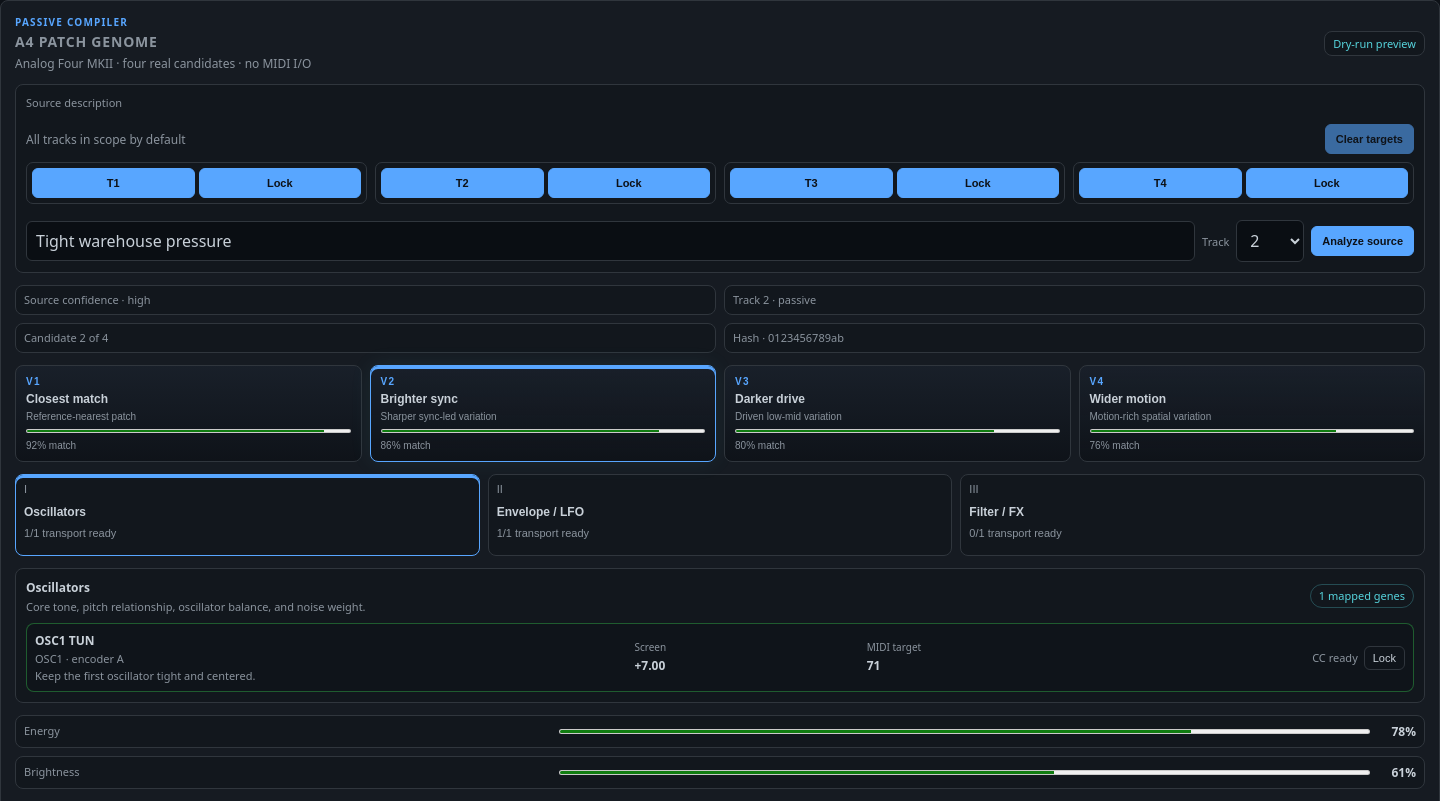
Test case: PatchGenomePanel › multi-selects A4 mutation targets and shows inactive and locked tracks
Click the button named "Target track 2".
click(462, 183)  # box [381, 168, 544, 198]
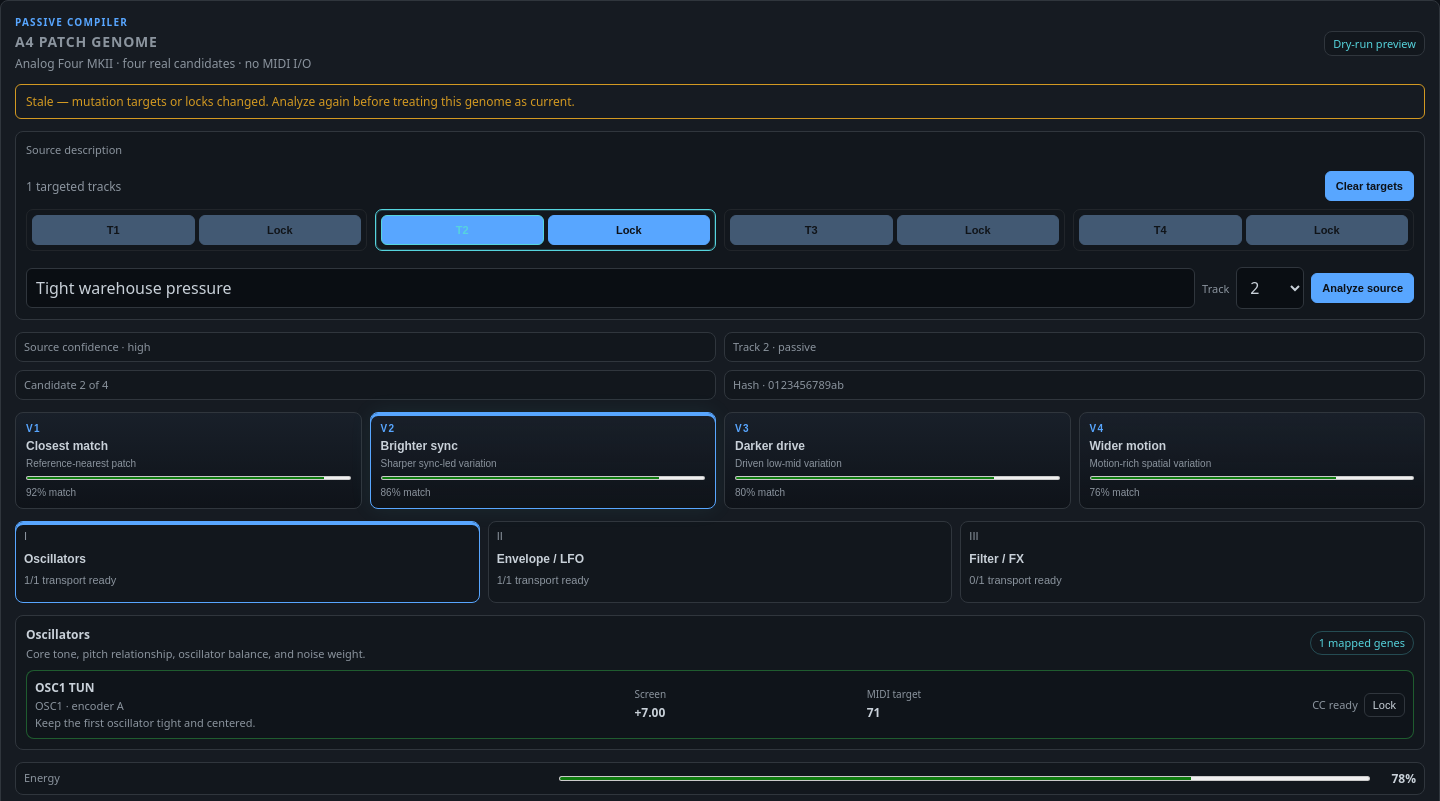
Check: the element with test id "a4-target-control-1" has class "inactive", box [26, 209, 367, 251]
Check: the element with test id "a4-target-control-2" has class "targeted", box [375, 209, 716, 251]
Click the button with aria-label "Lock track 2".
click(629, 230)  # box [548, 215, 710, 245]
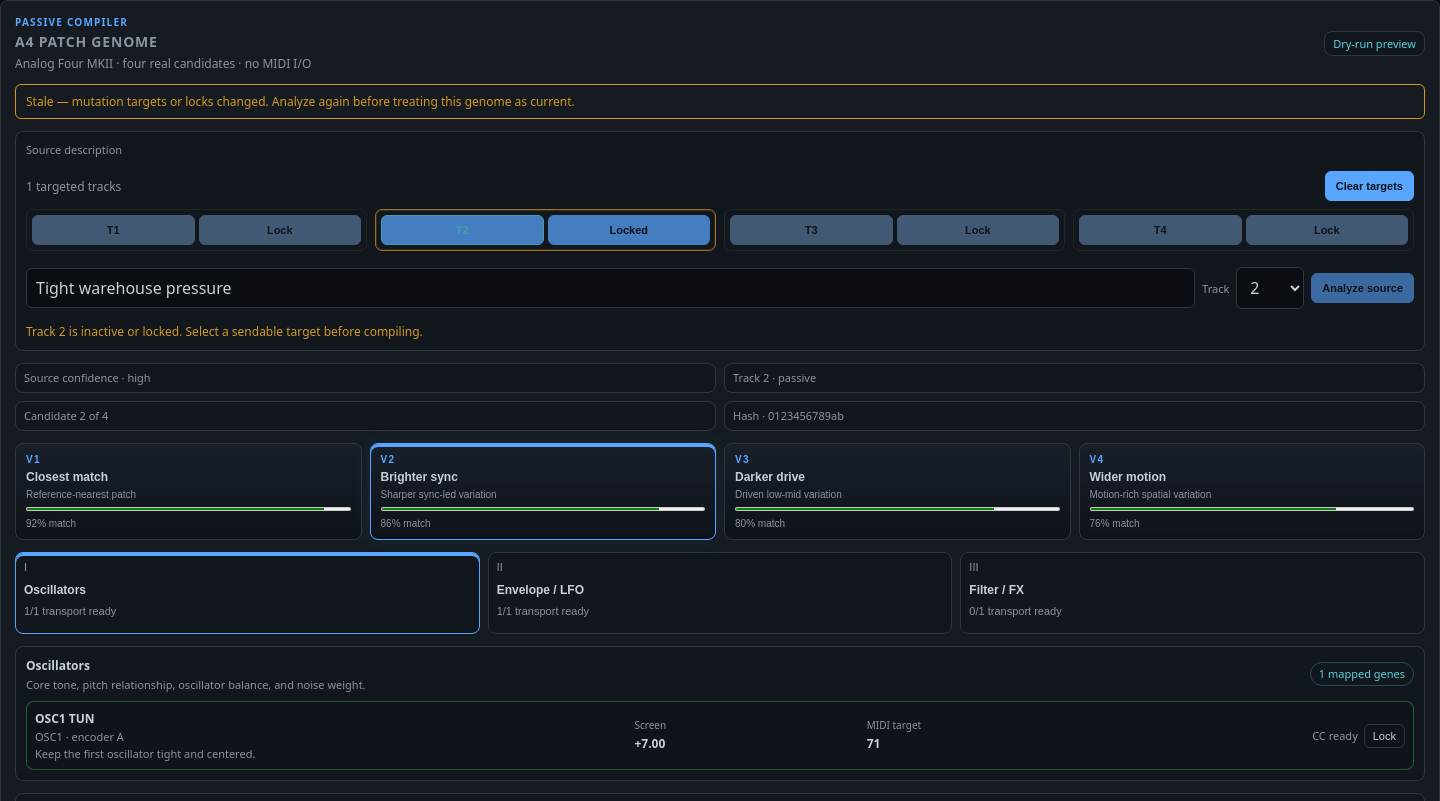
Check: the button "Analyze source" is disabled, box [1311, 273, 1414, 303]
